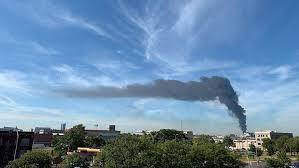smoke: (213, 77, 249, 132)
